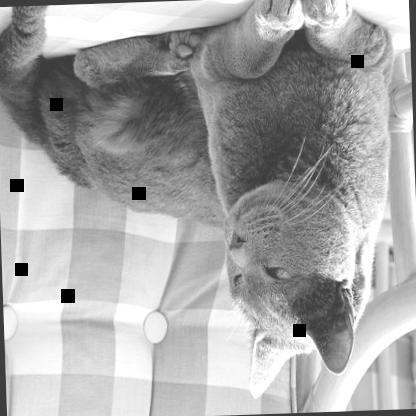cat: (0, 0, 407, 409)
